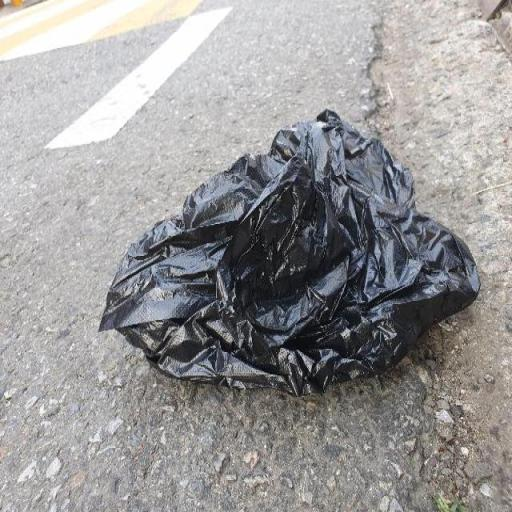plastic-bag: (98, 106, 484, 398)
